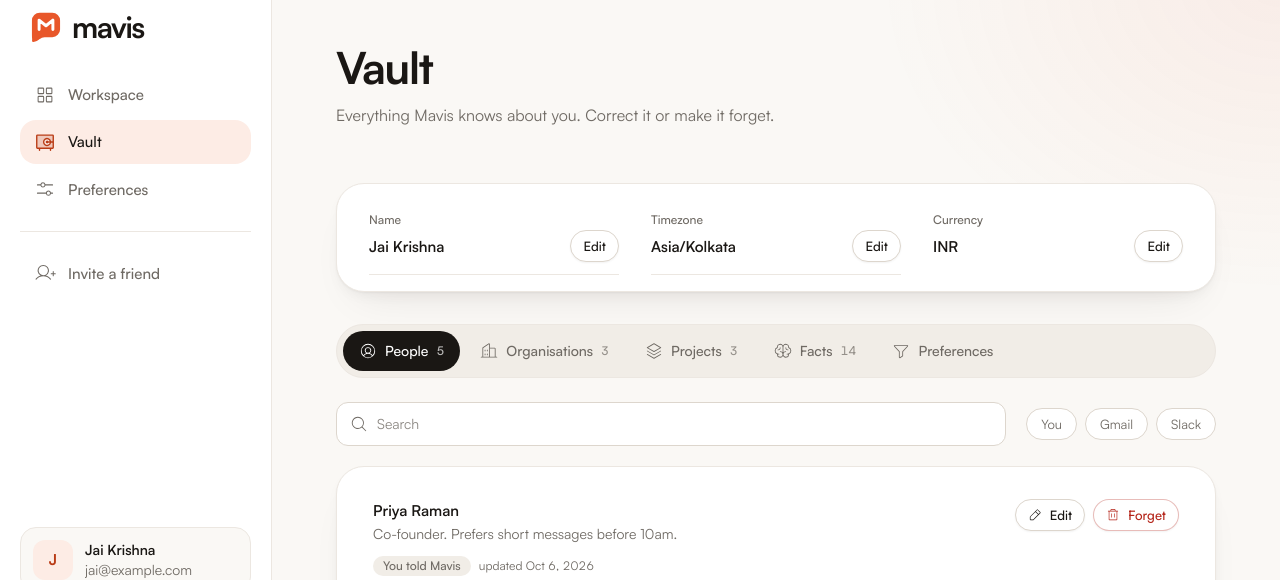
vault › edits an item inline
Click the button with aria-label "Edit Priya Raman".
click(1050, 515)  # box [1015,499,1085,531]
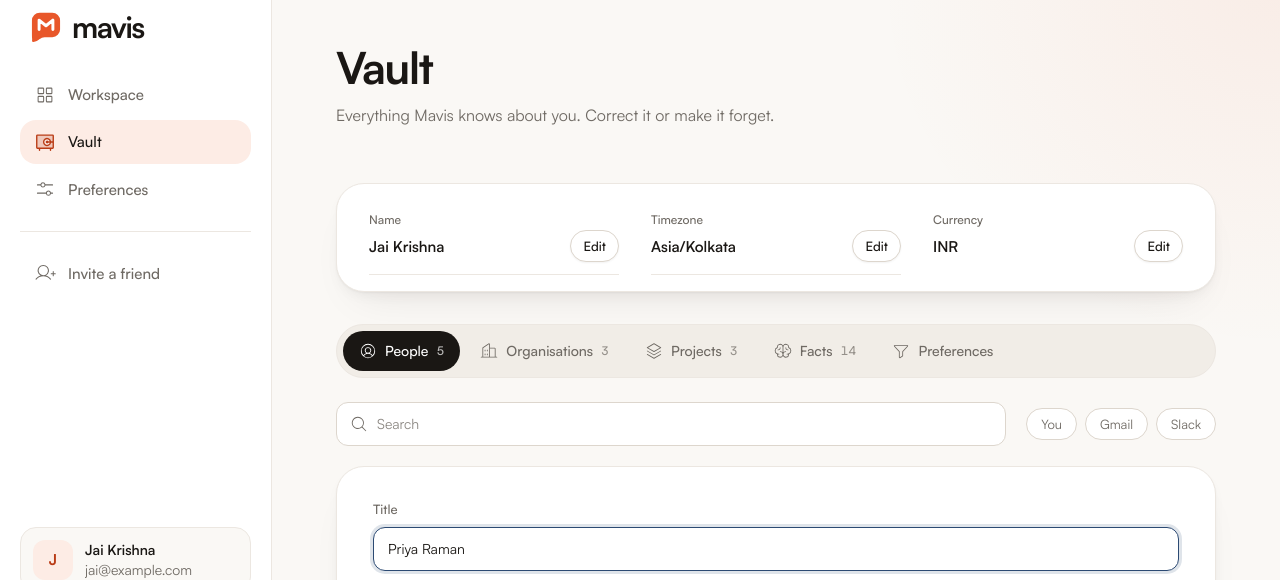
Replace the text in the field labelled "Title" with "Priya R." at (776, 549), box [373,527,1179,571]
(page scrolled)
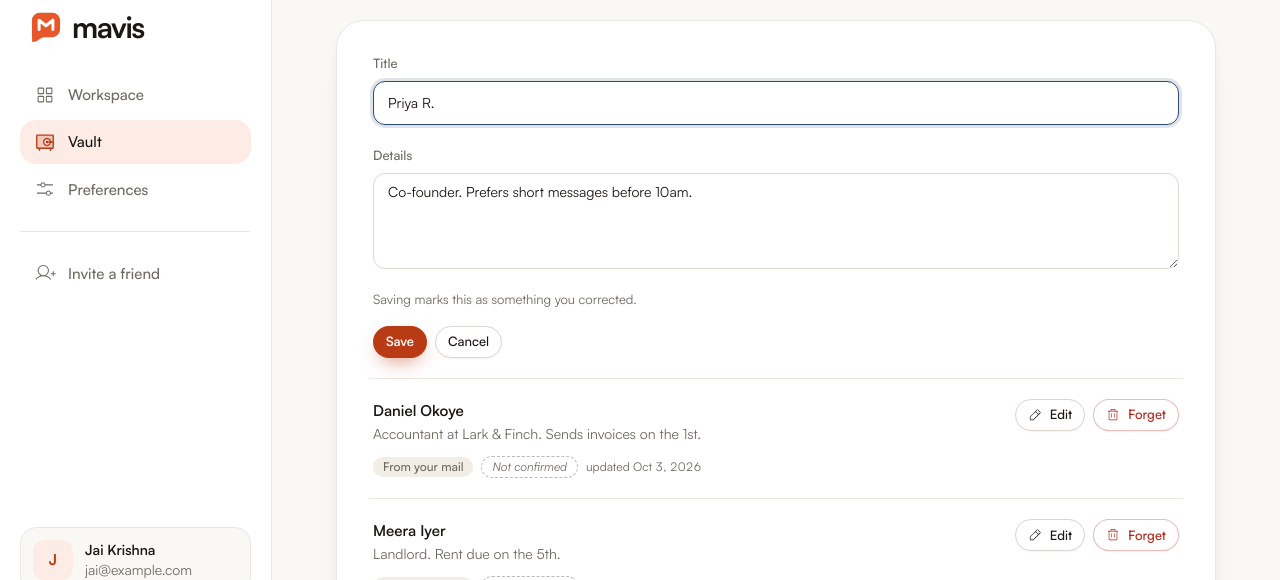
Click the button "Save".
click(400, 342)  # box [373,326,427,358]
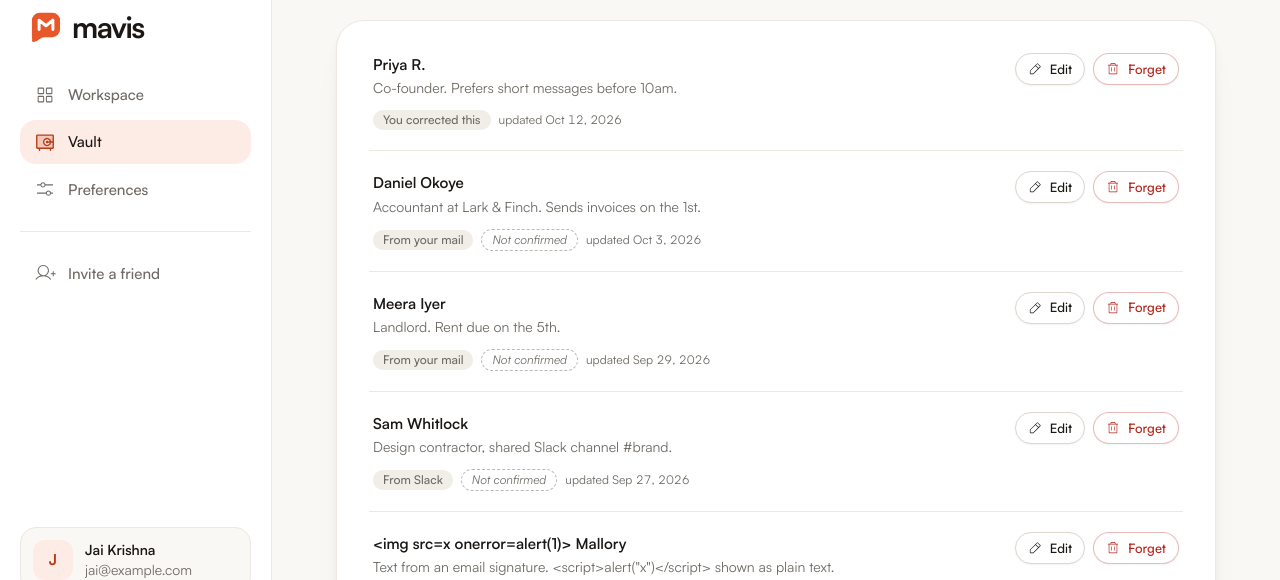
expect the text "Priya R." is shown: met, box [373,55,425,74]
